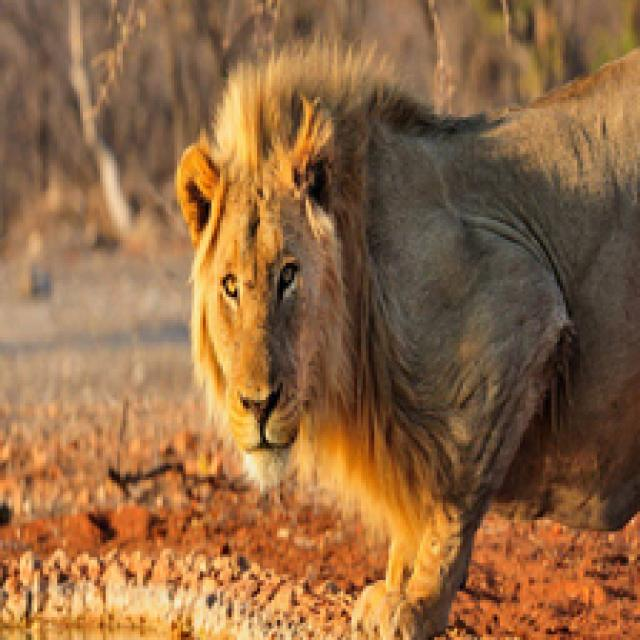lion: (151, 28, 637, 640)
